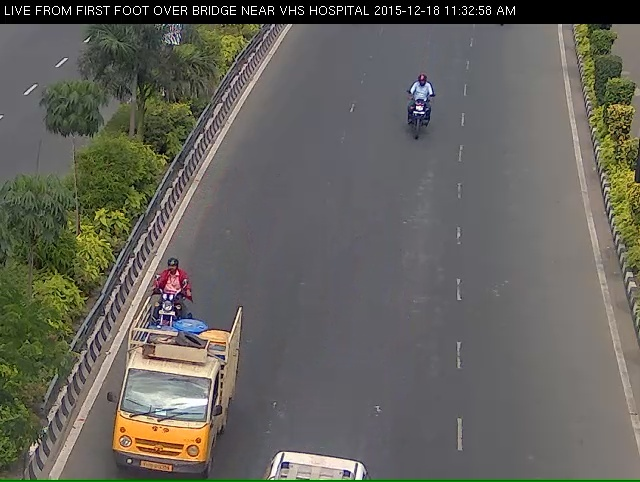Auto: (119, 330, 236, 474)
Person: (398, 75, 450, 150), (128, 274, 190, 334)
